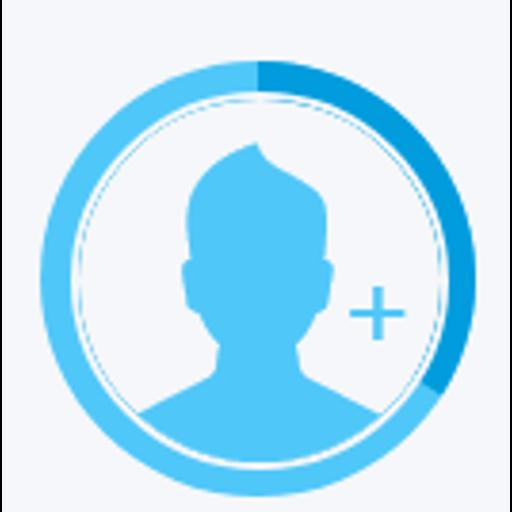PayPal: (2, 0, 510, 512)
